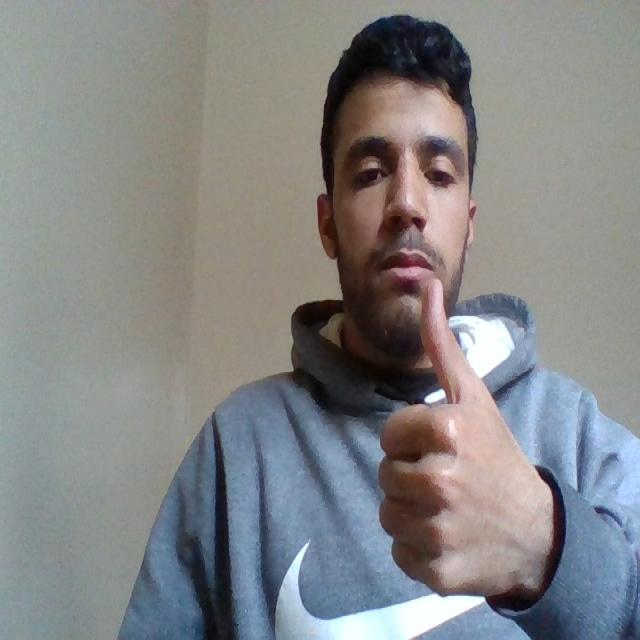Yes: (375, 271, 577, 605)
